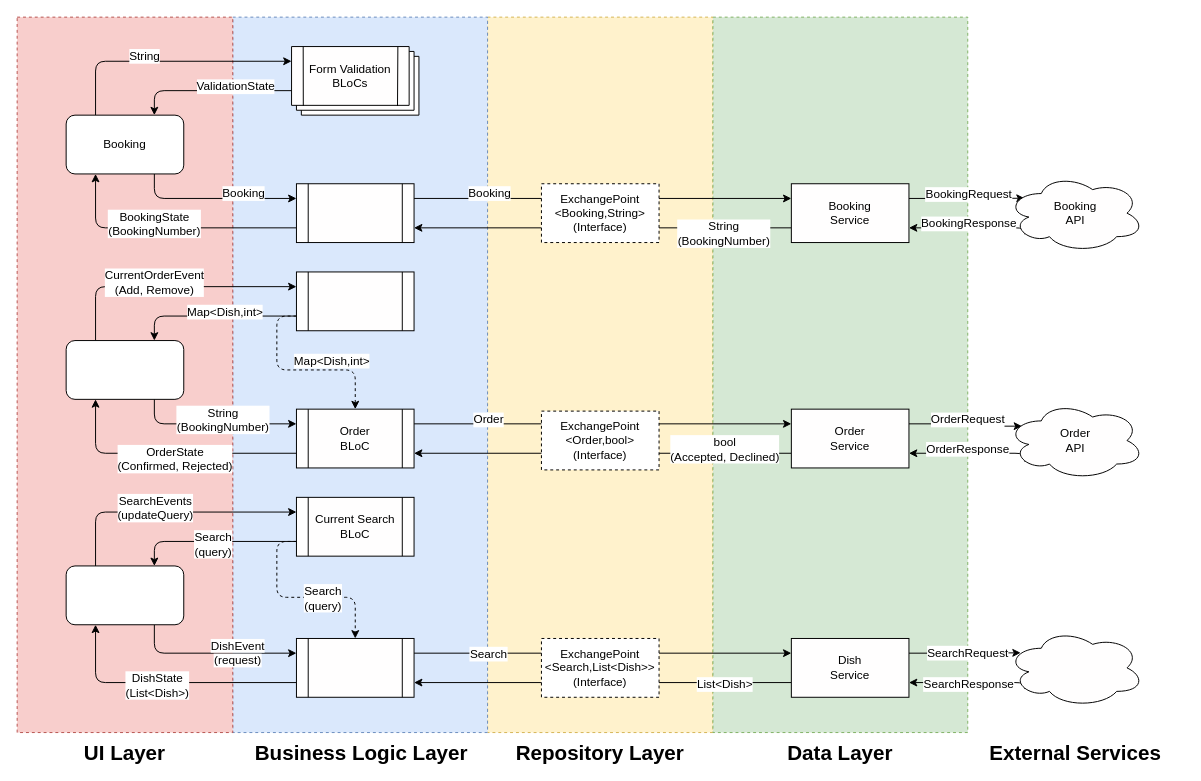
Some shapes in this 1201 by 781 pixel diagram are drawn without their labels. The centre of each missing label's shape, as x and y in pixels:
"Booking BLoC" goes at point 354,213.
"Current Order" goes at point 124,369.
"Current Order BLoC" goes at point 354,301.
"Dish API" goes at point 1075,667.
"Dish BLoC" goes at point 354,667.
"Menu" goes at point 124,595.
